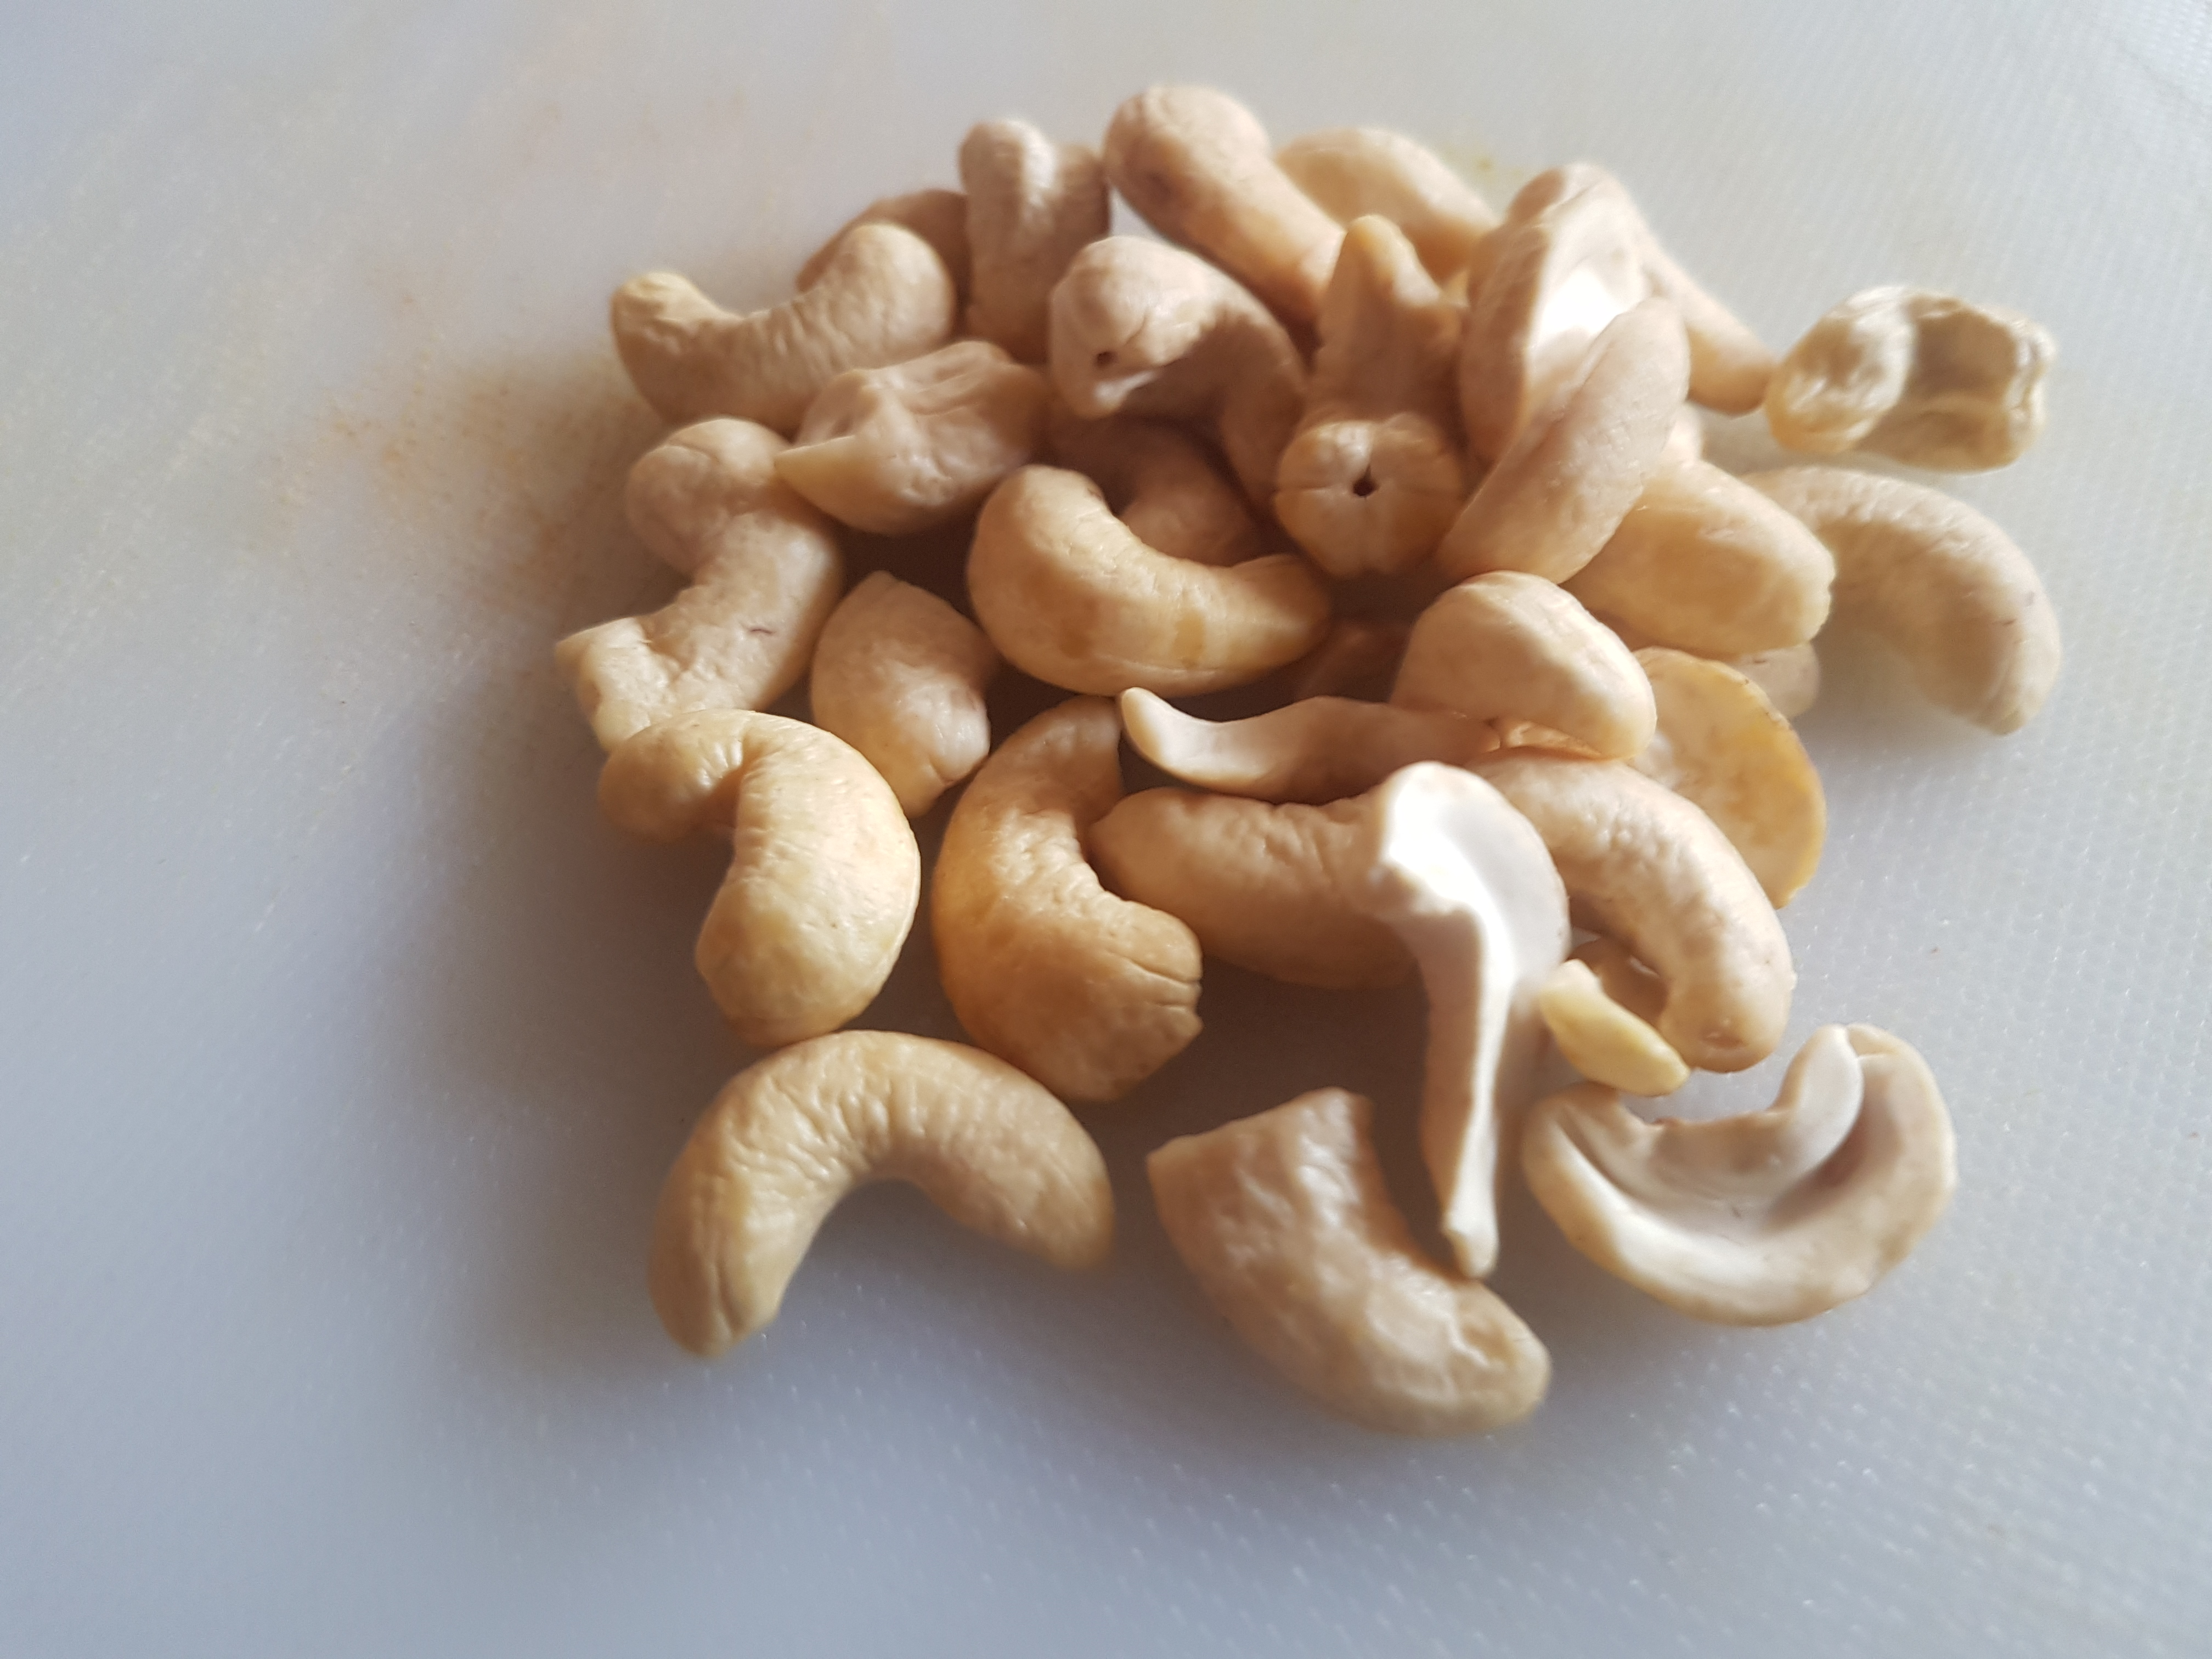Cashew: (538, 73, 2064, 1474)
